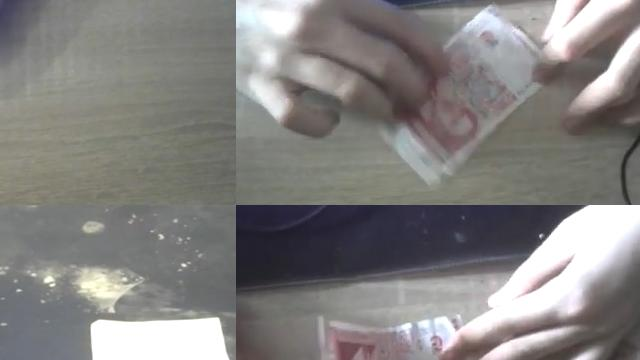10leva: (91, 318, 232, 360)
5leva: (306, 5, 543, 187), (320, 317, 458, 360)
